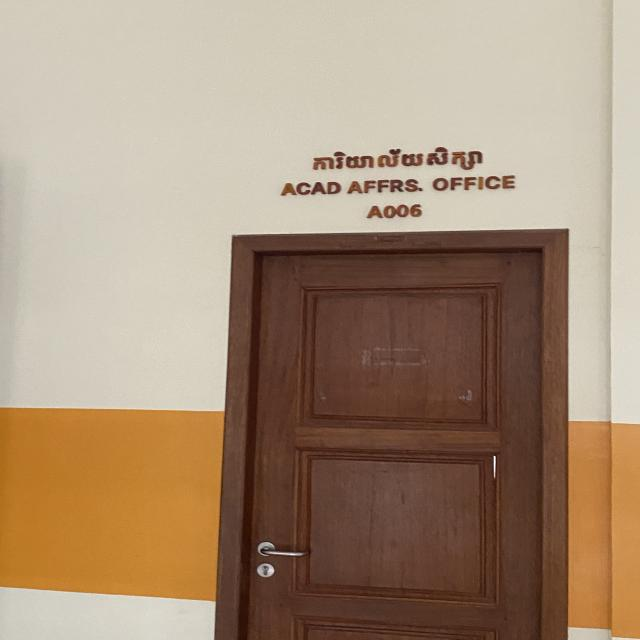Yolov11_80vkh: (306, 142, 498, 175)
